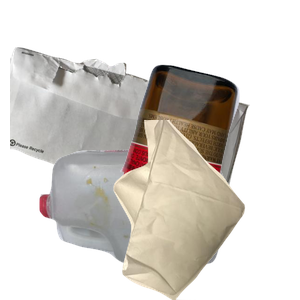glass: (113, 62, 300, 242)
paper: (10, 45, 250, 225)
plastic: (37, 147, 254, 300)
trash: (111, 120, 300, 300)
